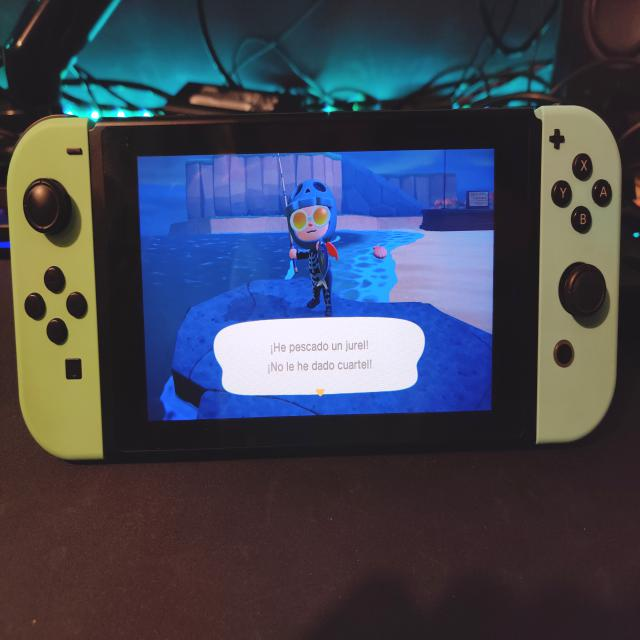text_bubble: (214, 316, 429, 402)
